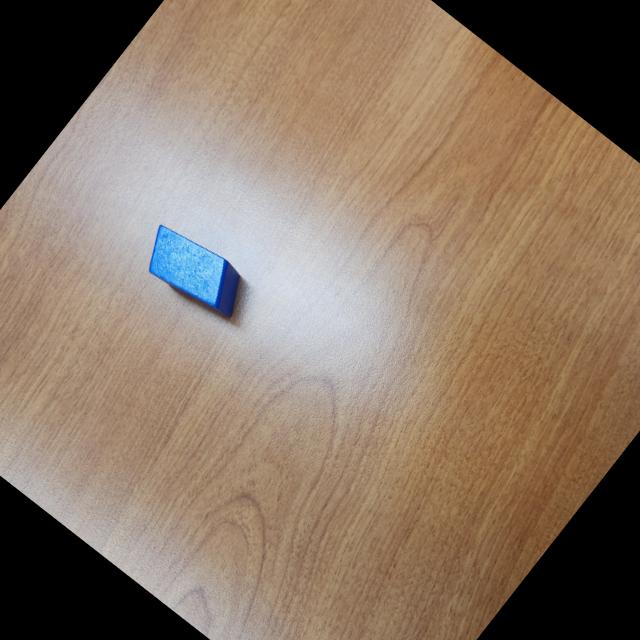blue: (130, 214, 260, 332)
